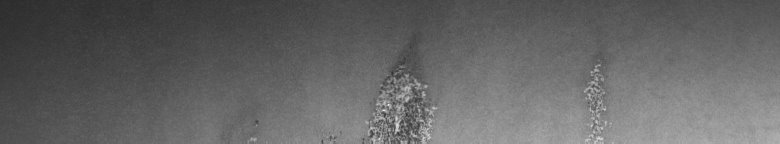hc: (364, 57, 438, 136)
